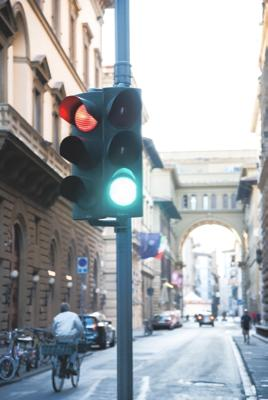International Road Signal Light: (61, 89, 144, 220)
